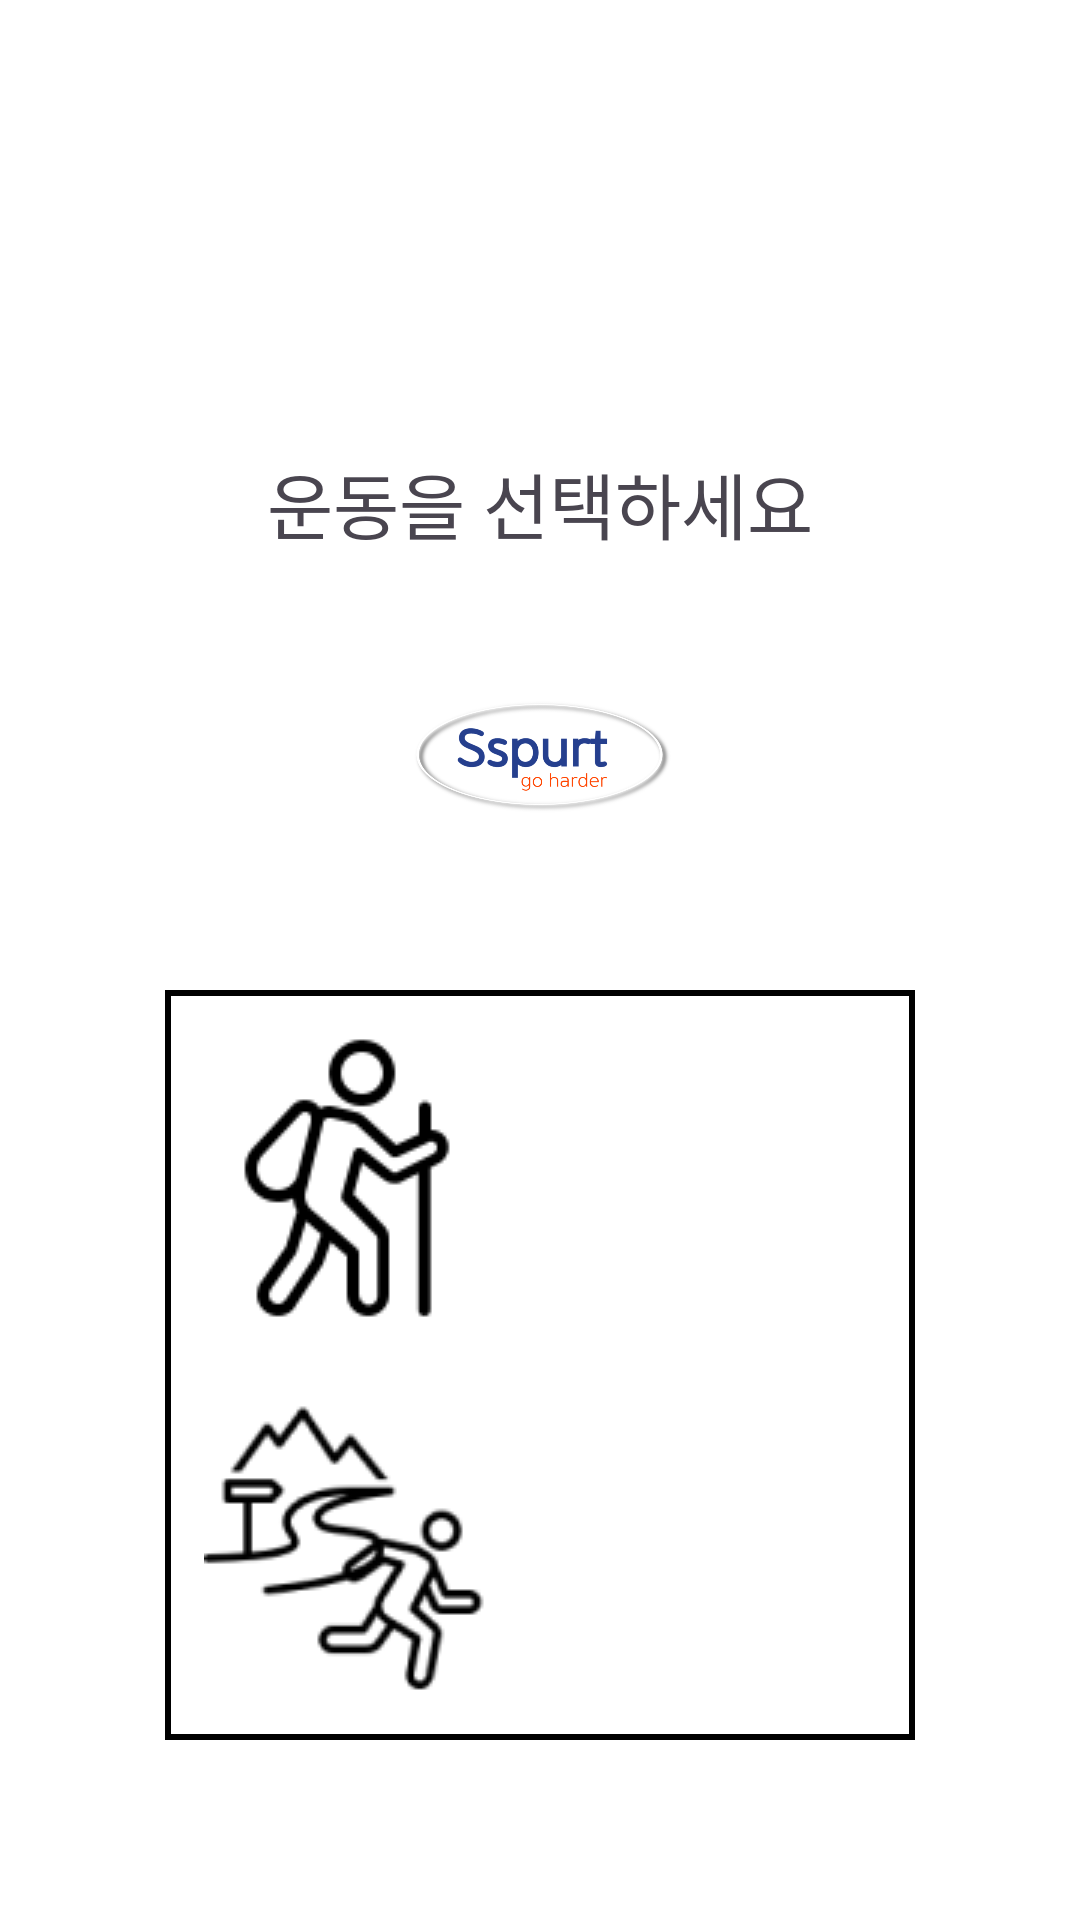

Point at icon controls on the screen. Image size 1080 x 1920, points as [x,y].
trail: [344,1548]
treckking: [347,1178]
